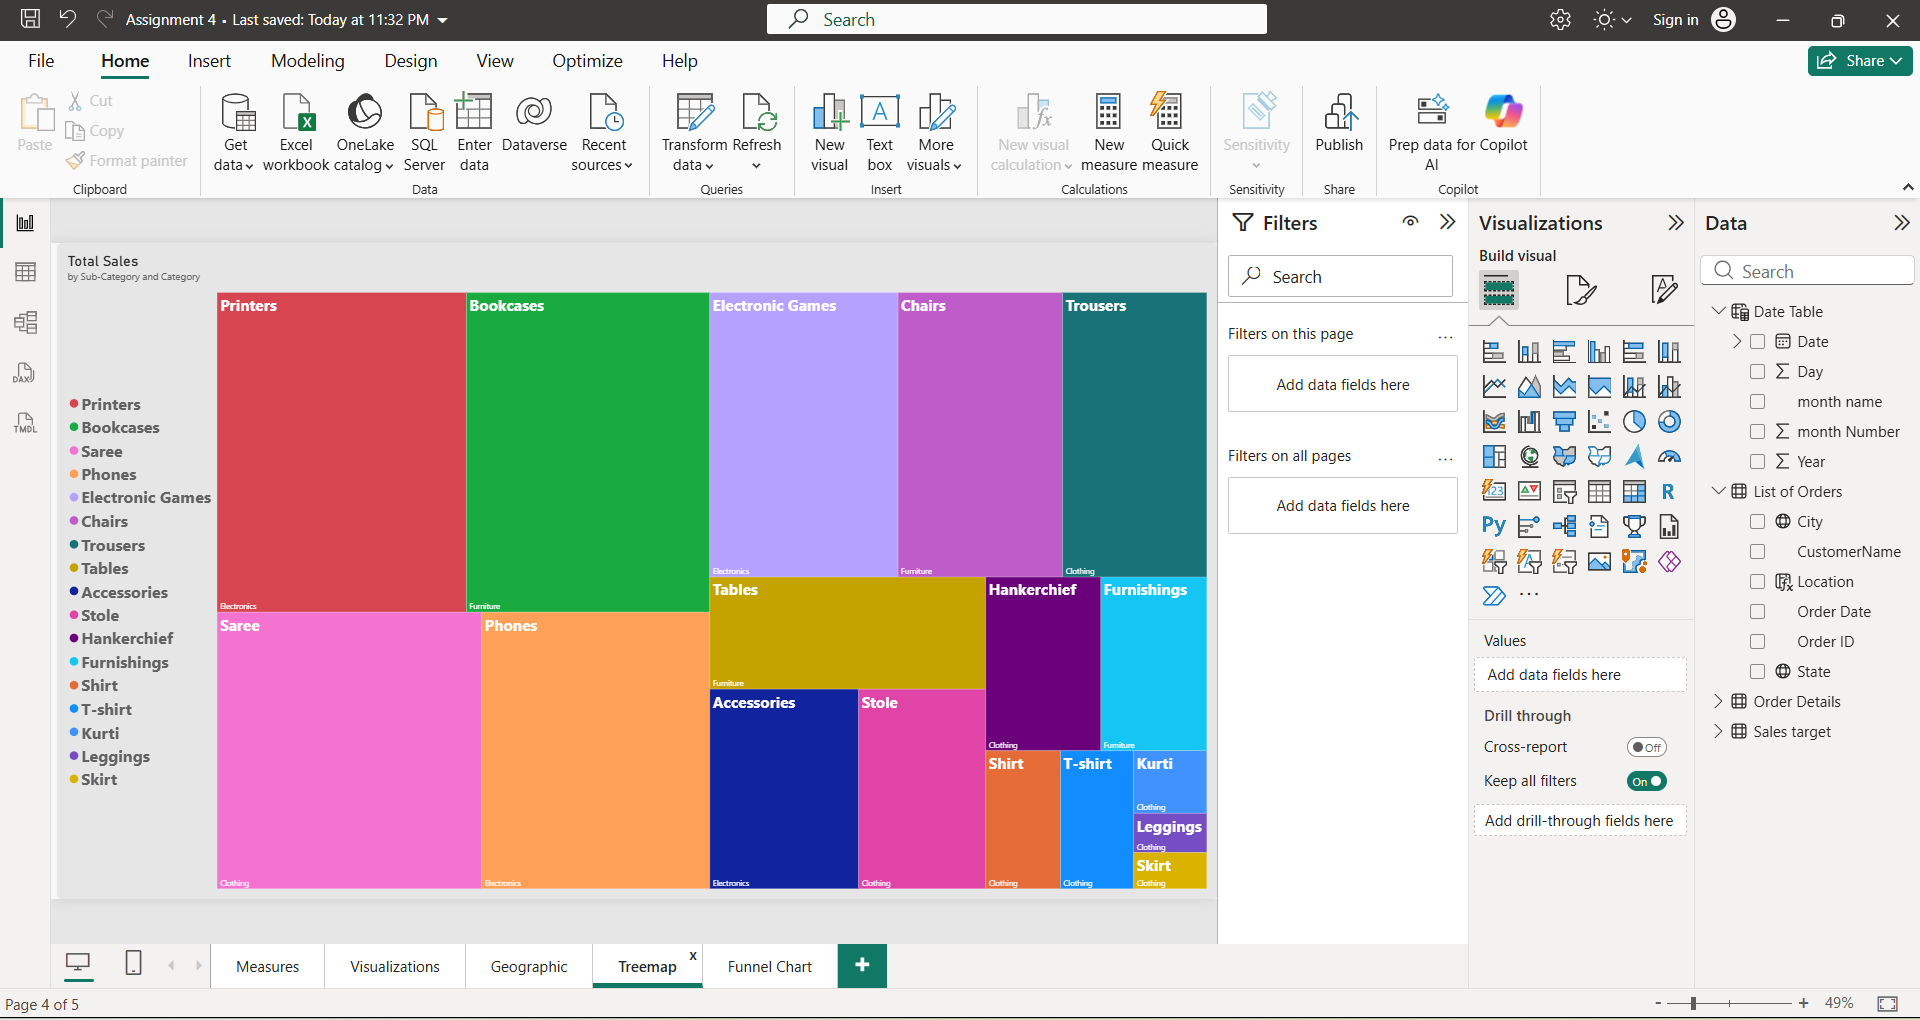

The page's visual inventory and layout, read from the dashboard file:
{"tool":"powerbi","page":{"name":"Treemap","canvas":[1920,1080],"ordinal":3},"visuals":[{"type":"treemap","fields":{"Details":["Order Details.Category"],"Group":["Order Details.Sub-Category"],"Values":["Order Details.Total Sales"]},"box":[10.3,0,1910.1,1080.6],"z":0}]}

Visuals, with their boxes on the page's 1920x1080 design canvas (x1, y1, x2, y2). These are canvas units, not pixel positions in the 1920x1020 screenshot, which may show the page scaled, cropped or inside an application window:
treemap - Order Details.Category x Order Details.Sub-Category: <bbox>10, 0, 1920, 1081</bbox>
